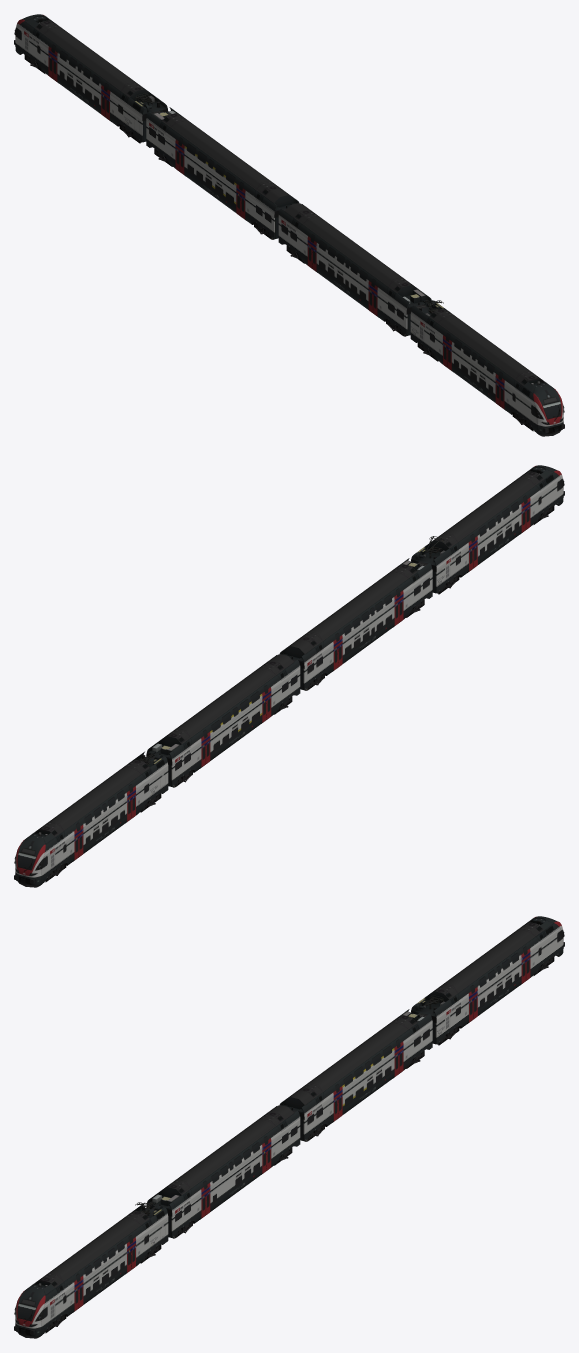
The model's file is SBB RABe 511.glb.
3 views of the same model, one above another, from view 1: azimuth 30°, elevation 25°; view 2: azimuth 150°, elevation 25°; view 3: azimuth 330°, elevation 25° (orthographic).
Parts seen in each view (by area): view 1: 03_body, 02_body, 00_body, 01_body; view 2: 00_body, 01_body, 03_body, 02_body; view 3: 03_body, 02_body, 01_body, 00_body.
Part boxes in pixels (x1=…): 03_body: x1=410, y1=300, x2=564, y2=436; 02_body: x1=278, y1=203, x2=431, y2=336; 00_body: x1=14, y1=14, x2=168, y2=143; 01_body: x1=146, y1=107, x2=299, y2=239; 00_body: x1=14, y1=751, x2=168, y2=887; 01_body: x1=146, y1=654, x2=300, y2=787; 03_body: x1=411, y1=465, x2=564, y2=594; 02_body: x1=279, y1=558, x2=432, y2=690; 03_body: x1=14, y1=1202, x2=168, y2=1338; 02_body: x1=146, y1=1105, x2=300, y2=1238; 01_body: x1=279, y1=1009, x2=432, y2=1141; 00_body: x1=411, y1=916, x2=564, y2=1045.
Size of the model in its own units: 2.76 by 4.93 by 94.59.
Materials: 4 (4 with a texture image).
